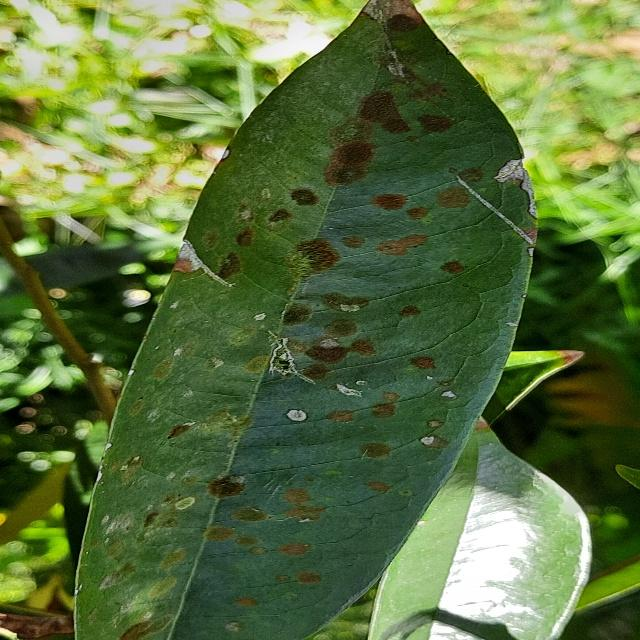Algal Leaf Spot: (63, 0, 545, 640)
